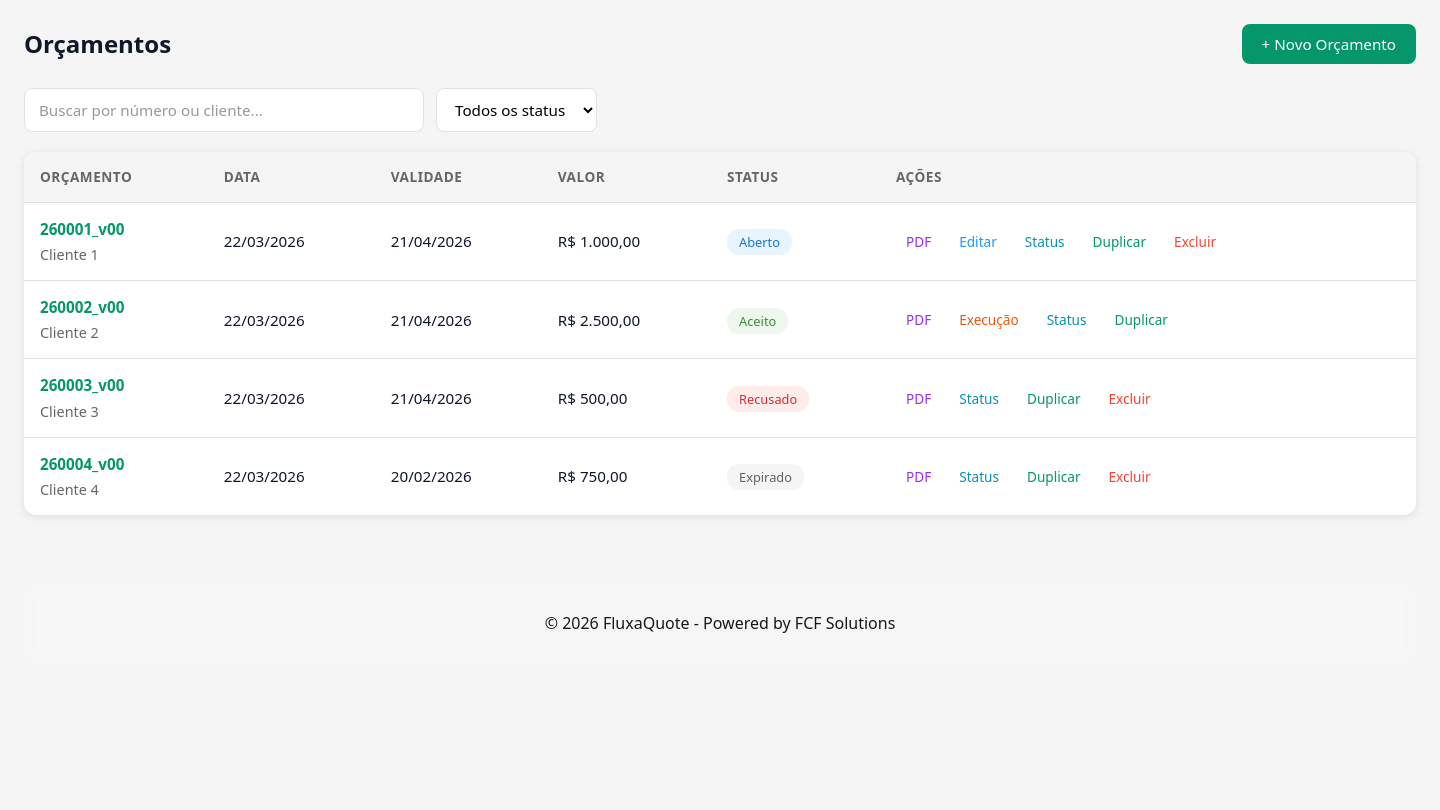
Scenario: Orcamentos › deve abrir modal de confirmação de exclusão
Click the button titled "Excluir" in the row of "260001_v00": (1195, 241) [1164,226,1226,257]
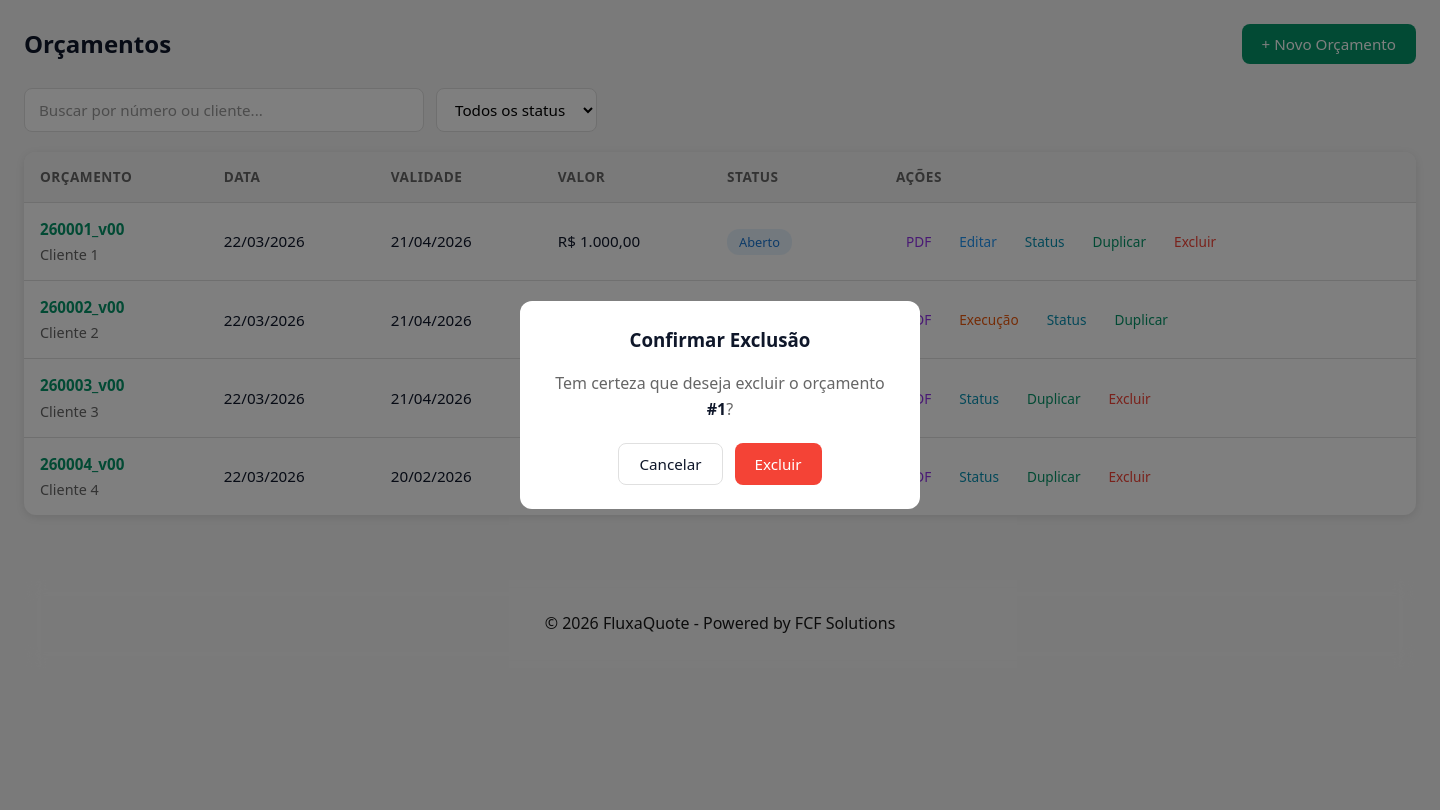
Check: the heading "Confirmar Exclusão" is shown, box [630,327,810,352]
Check: the text "Tem certeza que deseja excluir o orçamento #1?" is shown, box [544,371,896,423]
